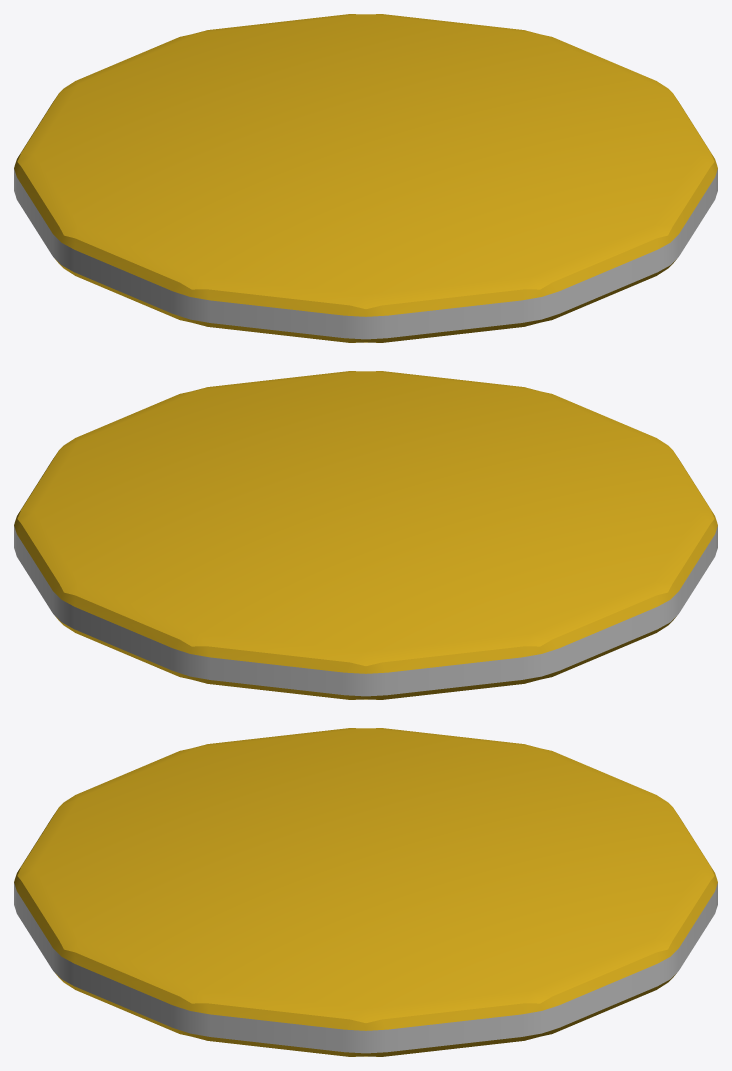
The model's file is rotative_platform_fixedv3.fbx.
3 renders of one model, top to bottom at view 1: azimuth 30°, elevation 25°; view 2: azimuth 150°, elevation 25°; view 3: azimuth 270°, elevation 25°, orthographic.
Parts seen in each view (by area): view 1: Cylinder003; view 2: Cylinder003; view 3: Cylinder003.
Part boxes in pixels (box(x1,y1,x2,y2)): Cylinder003: box(14, 14, 717, 342); Cylinder003: box(14, 371, 717, 699); Cylinder003: box(14, 728, 717, 1056).
Bounding box in the file's own units: 0.9504 × 0.0709 × 0.9504.
